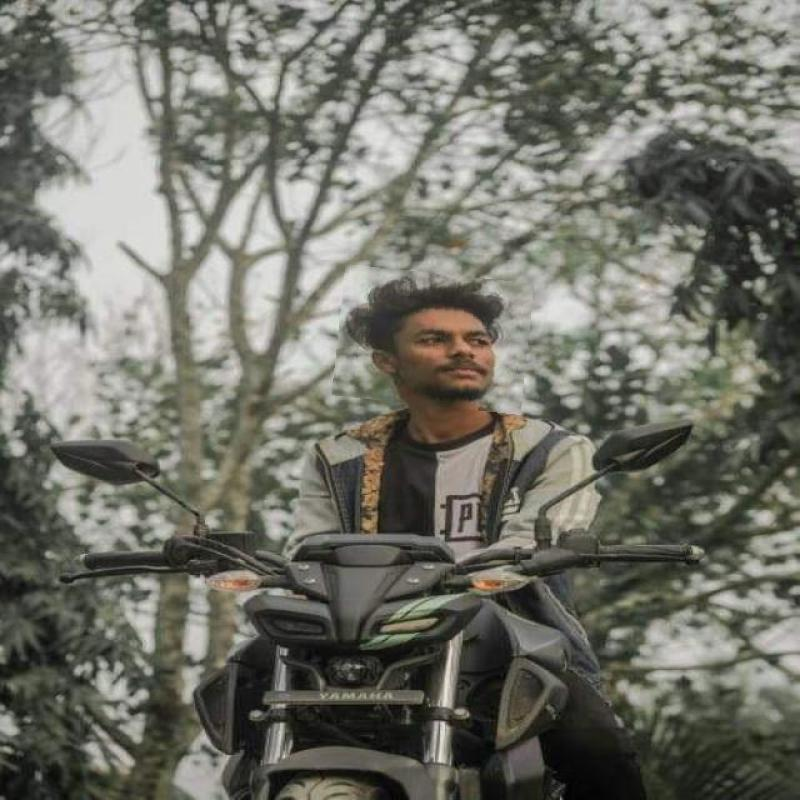nohelmet: (335, 269, 531, 411)
